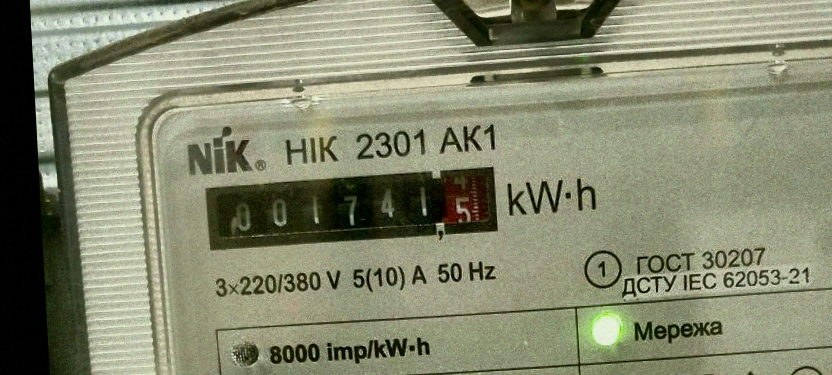0: (268, 194, 289, 229), (233, 199, 253, 233)
1: (304, 190, 323, 227), (414, 183, 431, 219)
4: (376, 184, 398, 220), (452, 172, 469, 191)
5: (452, 192, 472, 224)
7: (340, 191, 359, 227)
screen: (198, 159, 505, 256)
